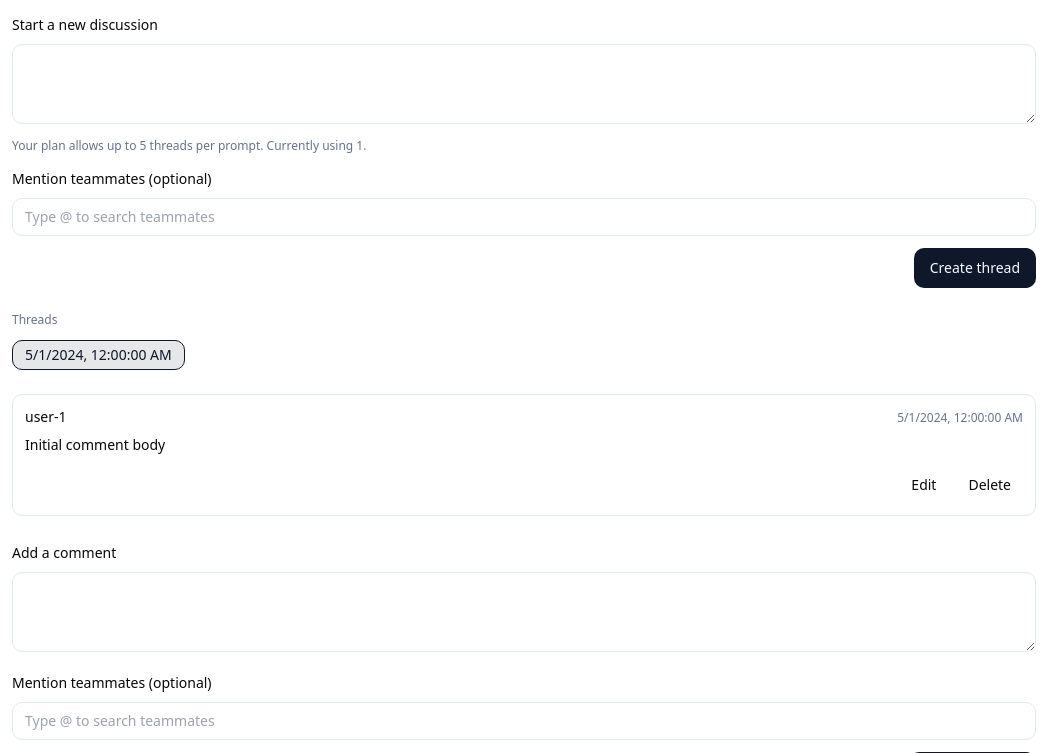
PromptCommentsPanel - comment editing › cancels editing and restores the original comment text
Expected: the text "Initial comment body" is shown, [25, 435, 165, 454]
Click the button "Edit" at (924, 485), box [899, 467, 948, 503]
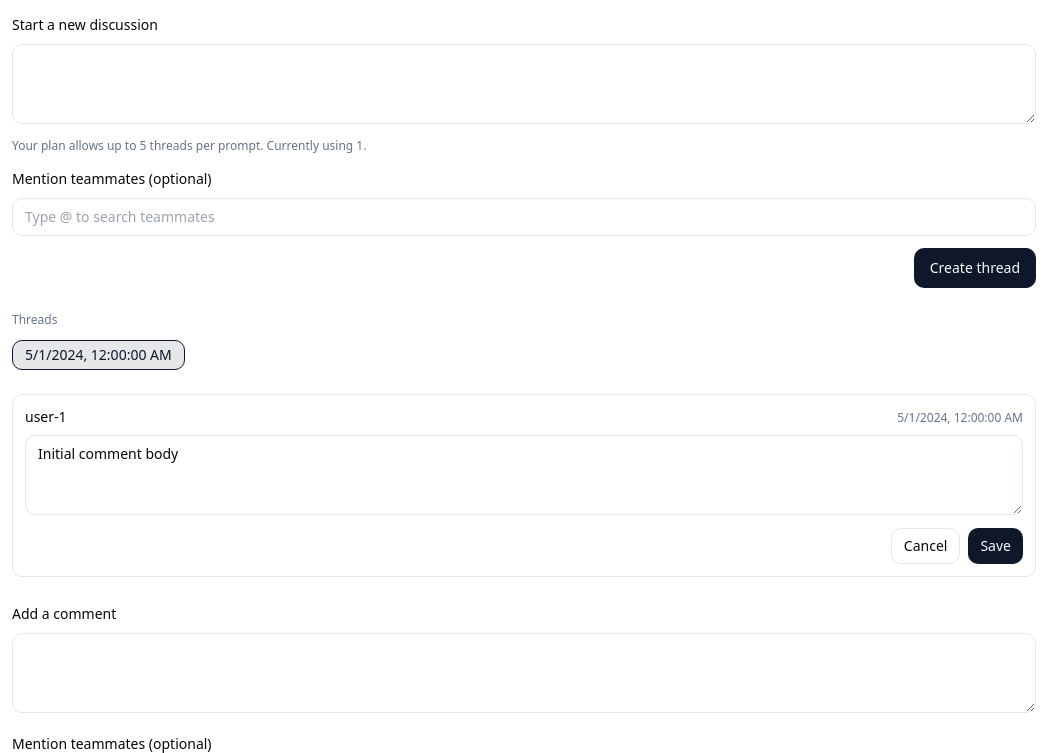
Replace the text in the text box showing "Initial comment body" with "Draft edit text" at (524, 475), box [25, 435, 1023, 515]
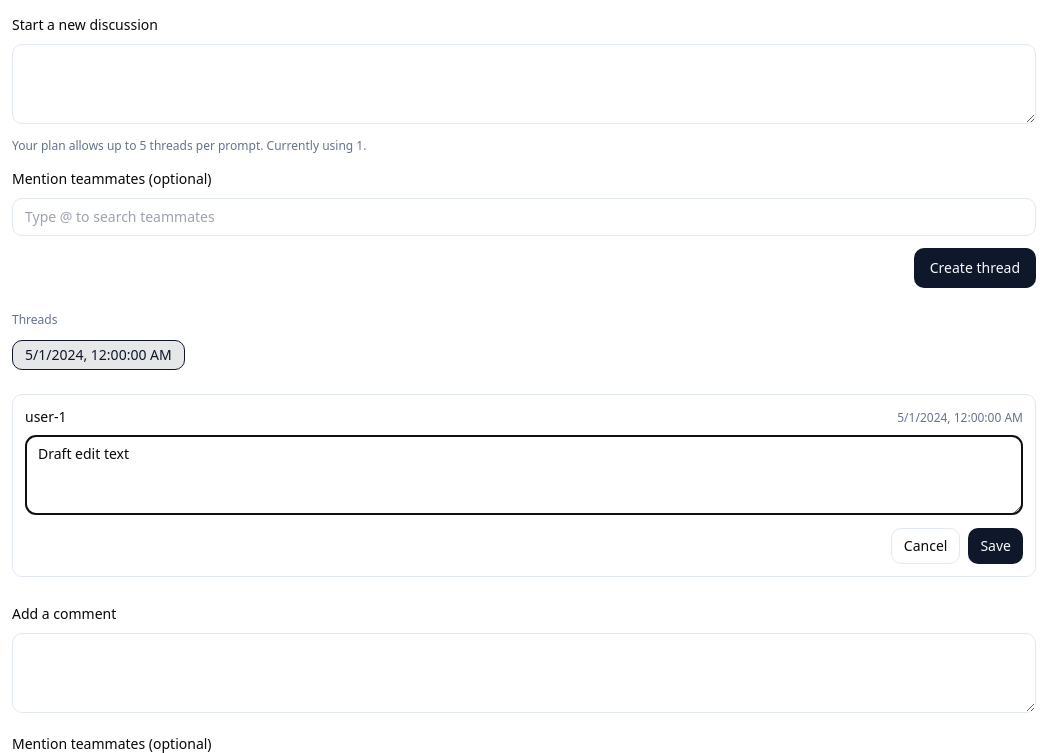
Click the button "Cancel" at (926, 546), box [891, 528, 960, 564]
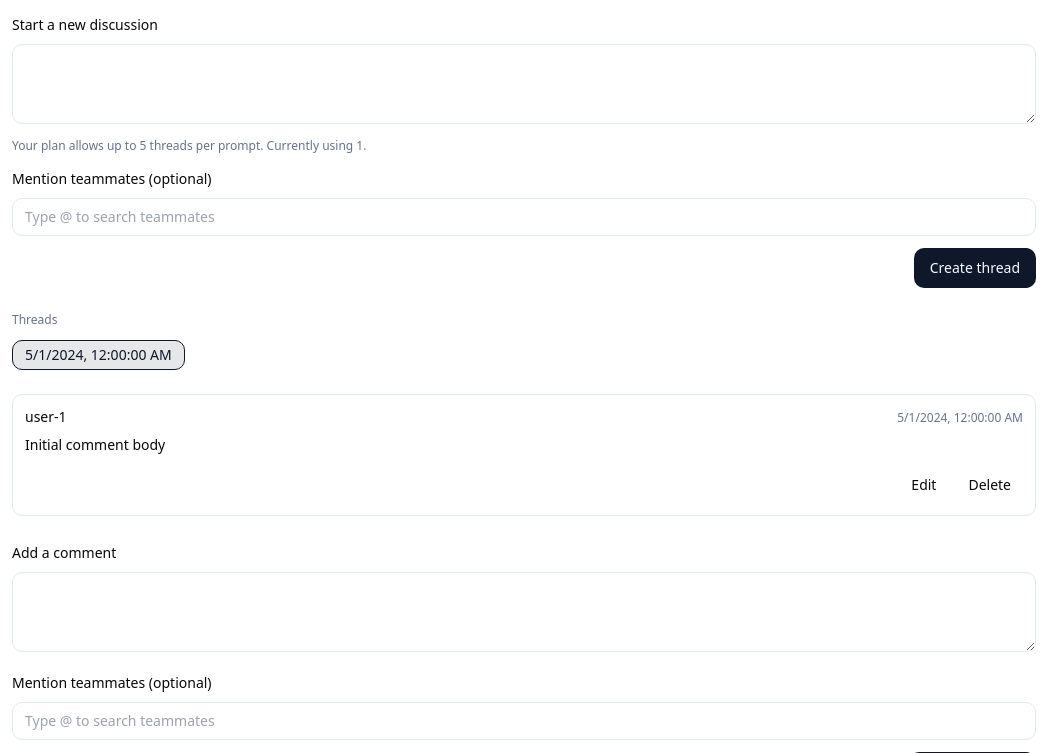
Result: the button "Save" is gone
Result: the text "Initial comment body" is shown at [25, 435, 165, 454]
